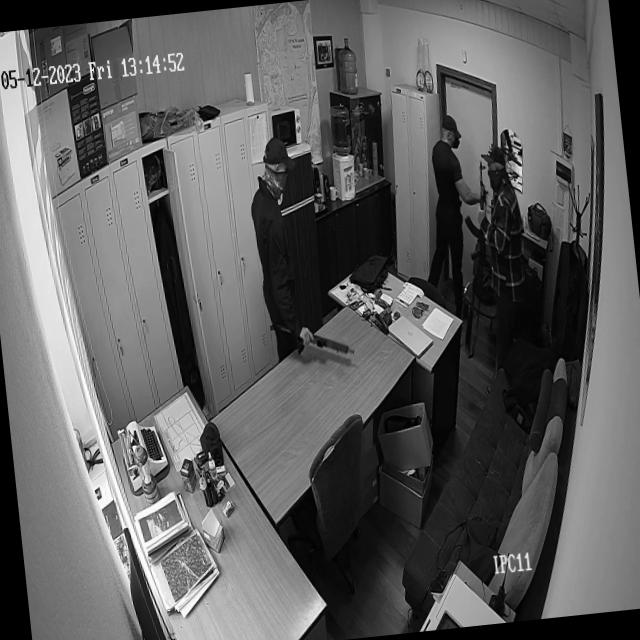gun: (458, 161, 498, 282), (270, 312, 356, 366)
person: (482, 144, 536, 213)
person with a gun: (237, 115, 336, 388)
